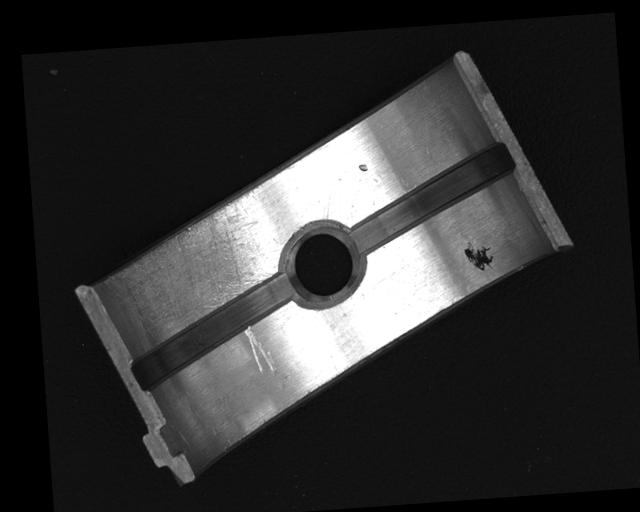blot: (461, 240, 495, 274)
bruise: (358, 163, 368, 173)
gap: (120, 272, 301, 395), (345, 140, 524, 254)
hole: (281, 222, 360, 303)
nick: (243, 324, 277, 377)
scratch: (98, 193, 279, 352)
